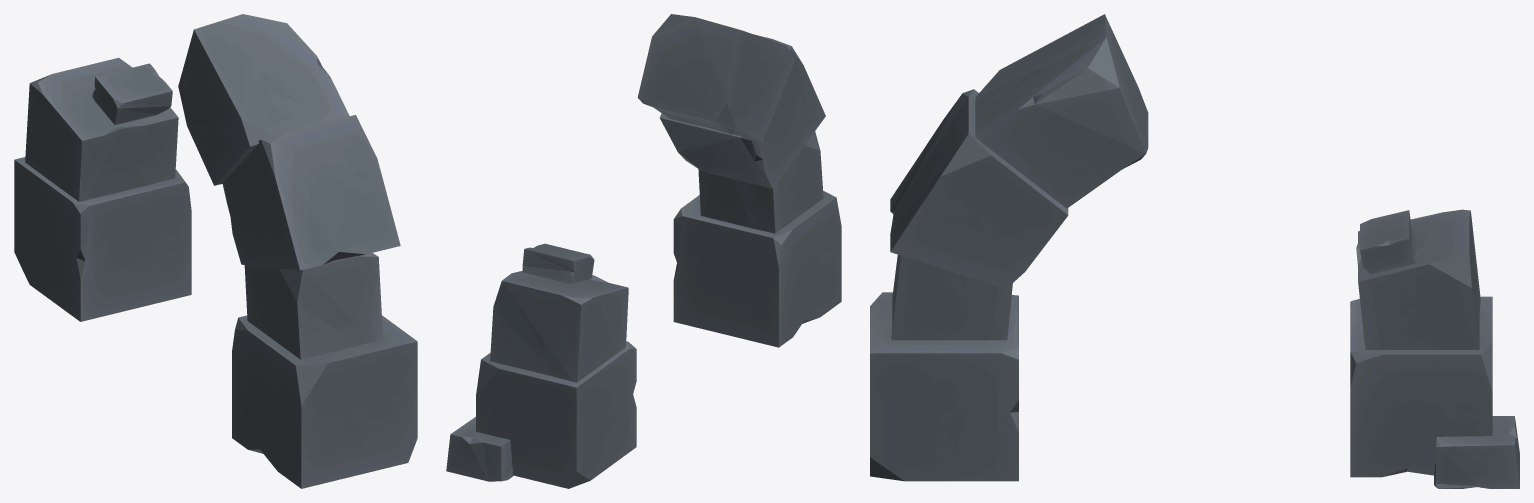
Rendered from WallEntrance2B-002_40_08_1228.fbx.
The picture shows the model from 3 angles, left to right: view 1: azimuth 30°, elevation 25°; view 2: azimuth 150°, elevation 25°; view 3: azimuth 270°, elevation 25°; orthographic projection. The views are drawn at different scales.
Visible parts, largest first — view 1: Arch; view 2: Arch; view 3: Arch.
Part boxes in pixels (box(x1,y1,x2,y2)): Arch: box(14, 14, 417, 488); Arch: box(446, 14, 841, 488); Arch: box(870, 14, 1519, 488).
Size of the model in its own units: 1.58 by 4.31 by 6.19.
